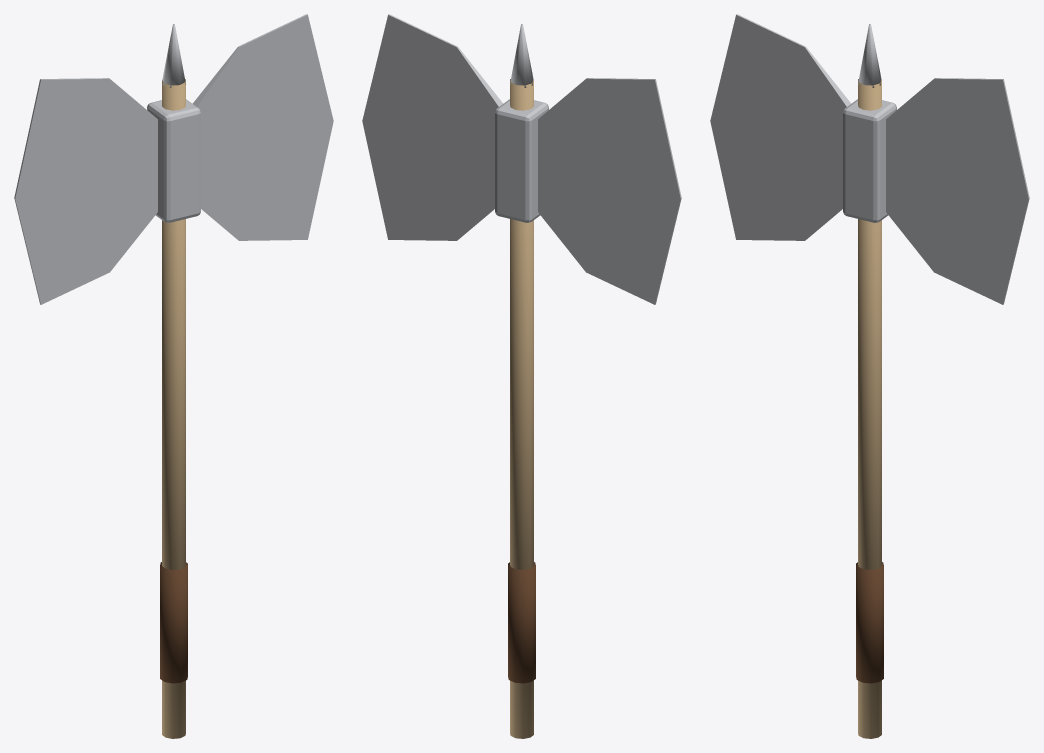
File: greataxe.glb
3 views of the same model, side by side, from view 1: azimuth 30°, elevation 25°; view 2: azimuth 150°, elevation 25°; view 3: azimuth 330°, elevation 25° (orthographic).
Visible parts, largest first — view 1: greataxe; view 2: greataxe; view 3: greataxe.
Boxes of the visible parts, left/top/right/bottom form: greataxe: left=14, top=14, right=333, bottom=738; greataxe: left=362, top=14, right=681, bottom=738; greataxe: left=710, top=14, right=1029, bottom=738.
Size of the model in its own units: 1.48 by 3.15 by 0.17.
